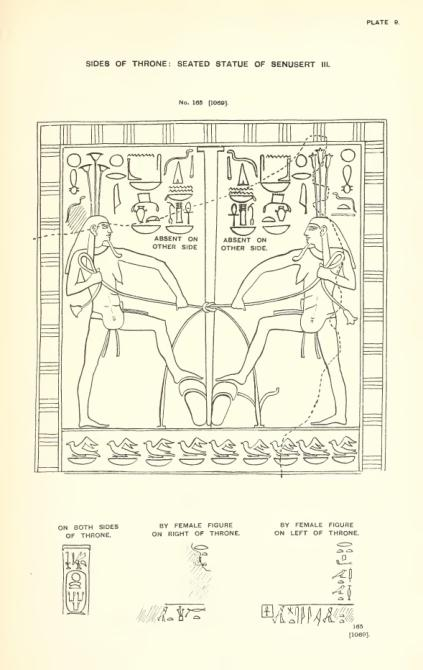circle: (64, 570, 89, 617)
